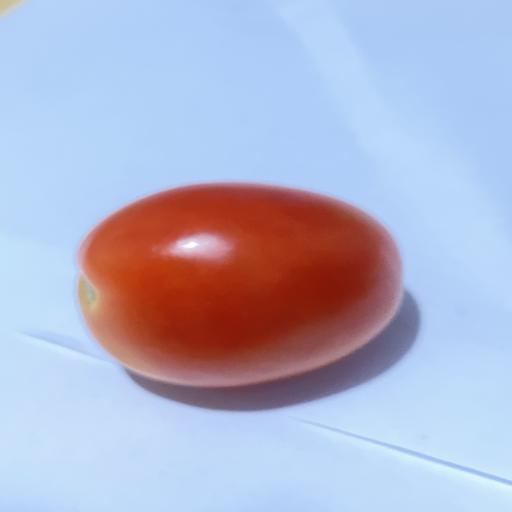ripe: (78, 183, 403, 387)
